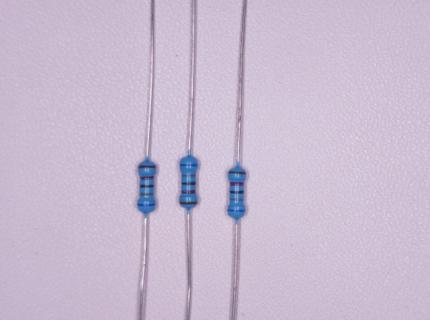Black band: (230, 191, 244, 194), (182, 182, 196, 185), (140, 185, 154, 188)
Blue band: (137, 203, 155, 206), (228, 209, 245, 212), (180, 164, 198, 166)
Brown band: (229, 171, 246, 174), (138, 166, 155, 168), (180, 202, 197, 204)
Grey band: (140, 193, 153, 196), (229, 199, 244, 201), (182, 175, 196, 177)
Red band: (230, 182, 244, 186), (181, 190, 195, 194), (140, 176, 154, 180)
